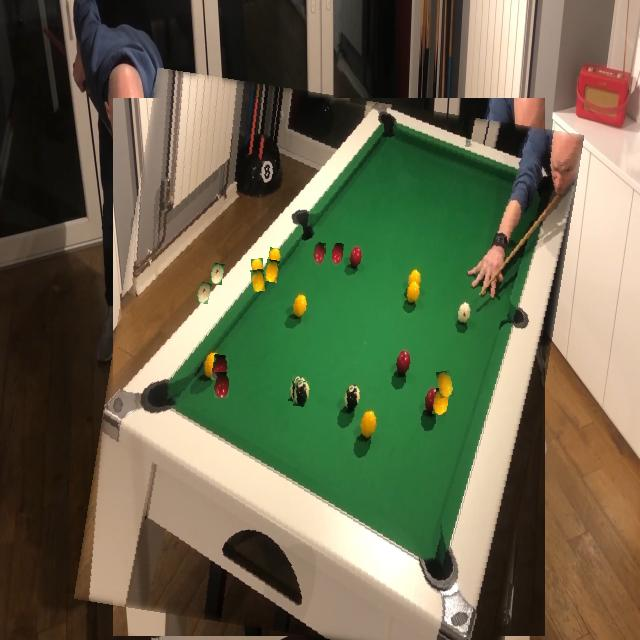Ball: (437, 370, 453, 398), (293, 381, 310, 407), (274, 404, 289, 432), (248, 338, 264, 364), (214, 372, 229, 398), (361, 300, 374, 324), (197, 282, 211, 303), (251, 270, 264, 292), (314, 243, 326, 265), (252, 258, 264, 275)
Billiard table: (93, 82, 564, 640)
